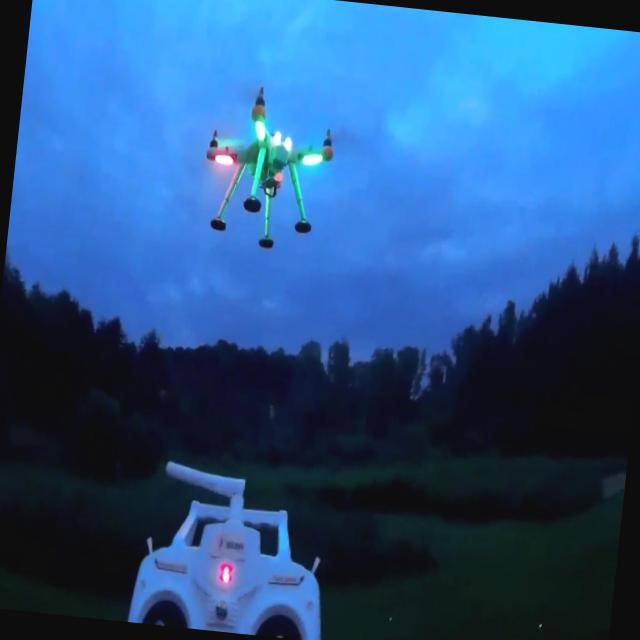drone: (197, 75, 342, 258)
